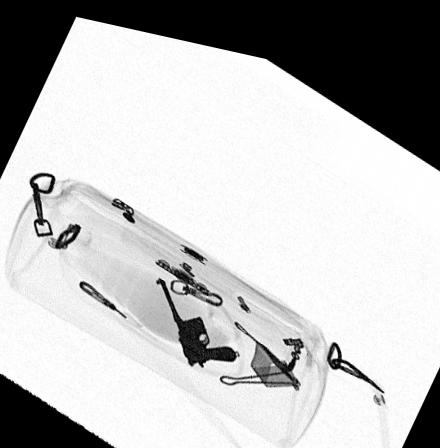Gun: (155, 270, 234, 363)
